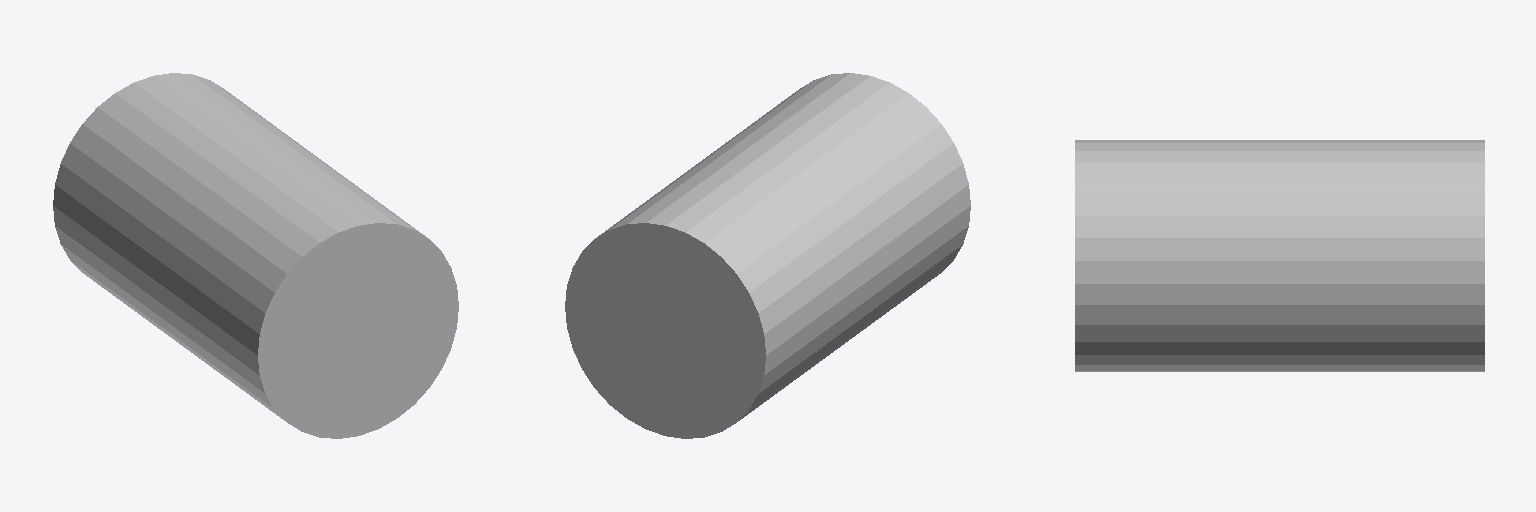
File: Shtanga.obj
3 views of the same model, side by side, from view 1: azimuth 30°, elevation 25°; view 2: azimuth 150°, elevation 25°; view 3: azimuth 270°, elevation 25° (orthographic).
Parts seen in each view (by area): view 1: Цилиндр; view 2: Цилиндр; view 3: Цилиндр.
Part boxes in pixels (x1,y1,x2,y2): Цилиндр: (53,73,458,438); Цилиндр: (565,73,970,438); Цилиндр: (1075,140,1484,371).
Bounding box in the file's own units: 2 × 2 × 3.53.